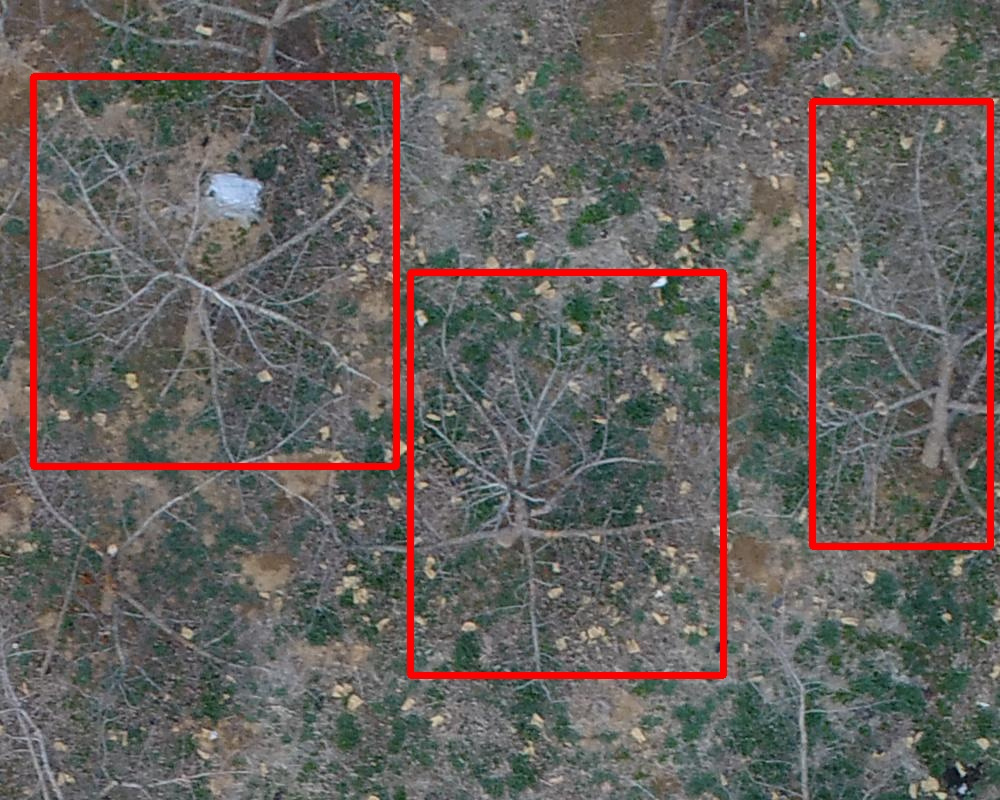apple: (33, 76, 396, 466), (410, 272, 723, 675), (812, 101, 990, 546)
